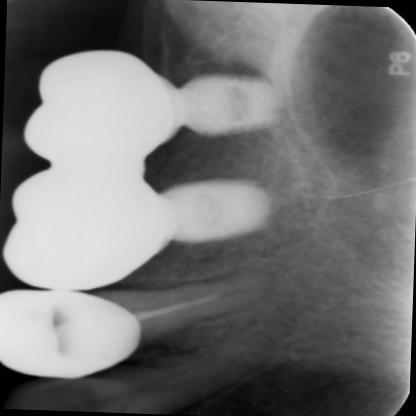Bicon: (158, 65, 280, 138)
